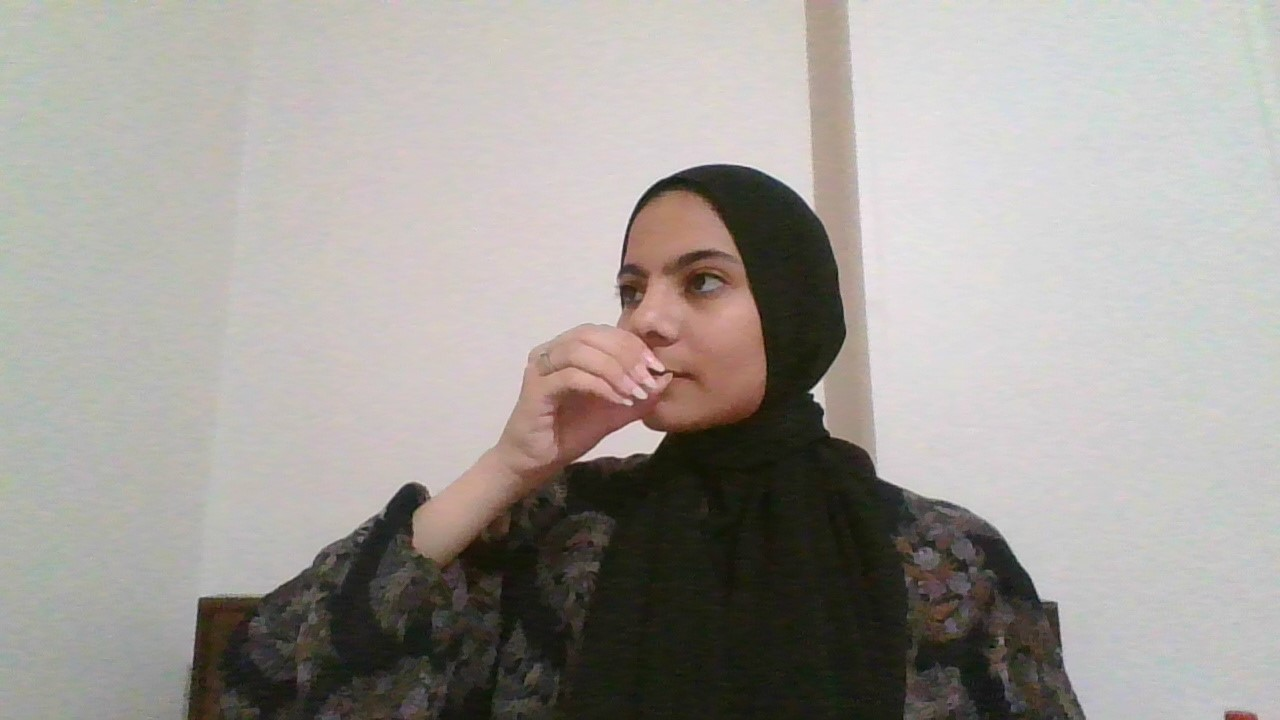drink: (511, 316, 675, 479)
